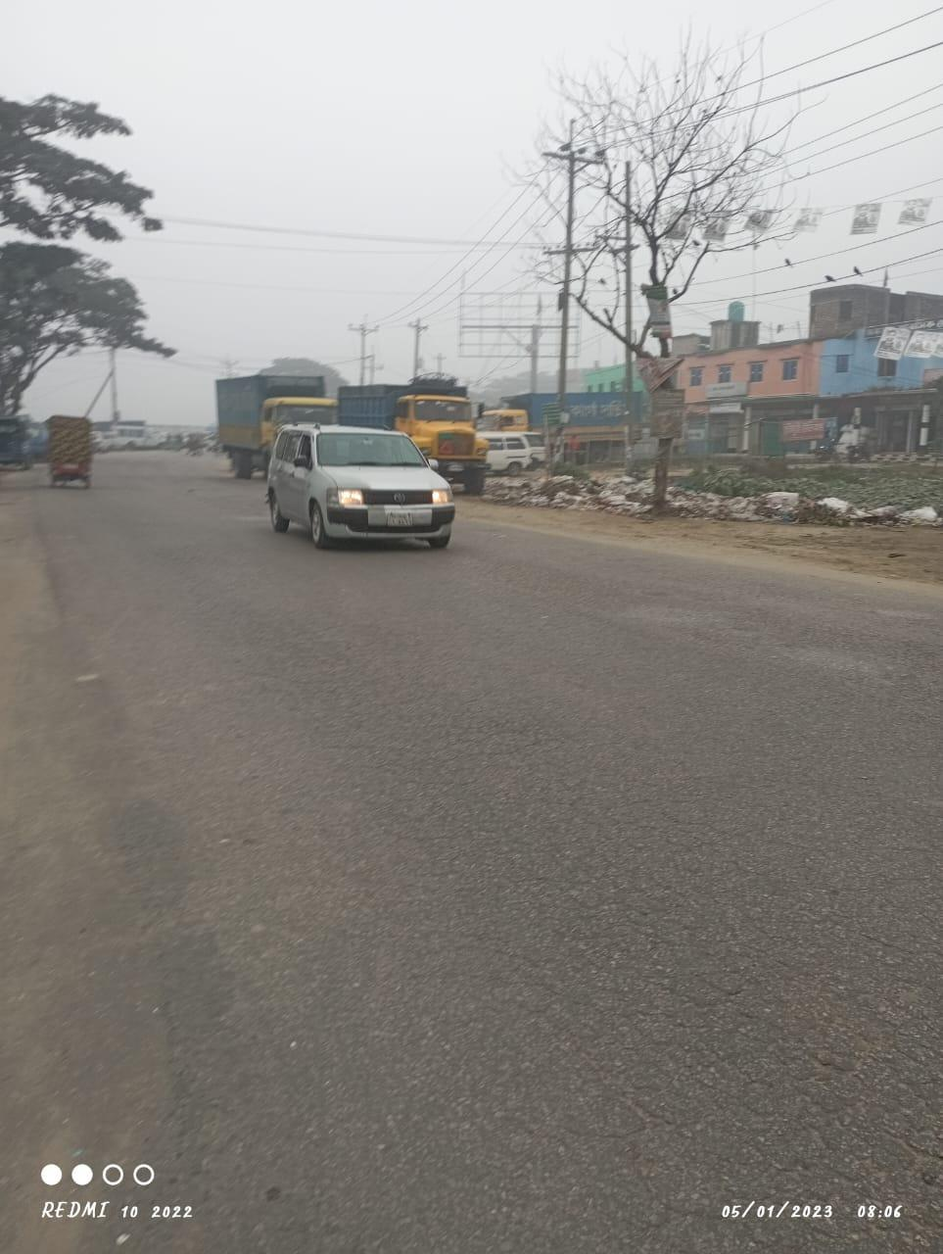Car: (256, 411, 472, 567), (40, 407, 96, 486), (479, 420, 533, 482)
Truck: (335, 365, 492, 513), (197, 364, 331, 477), (505, 372, 648, 458)
